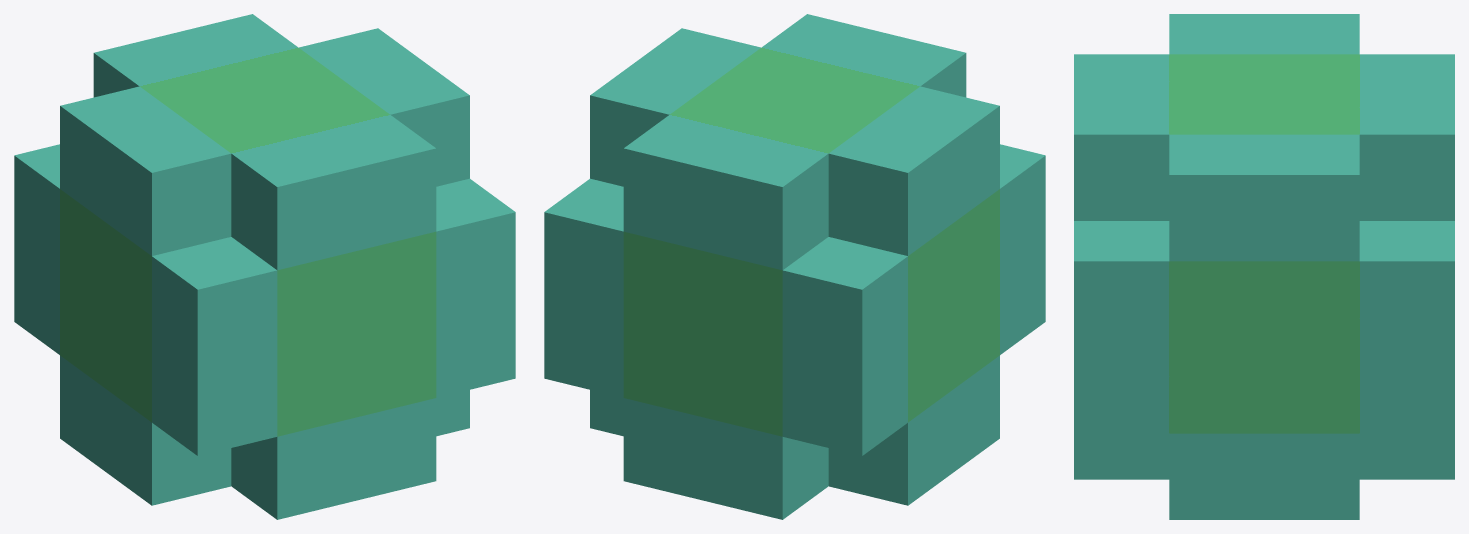
3 views of the same model, side by side, from view 1: azimuth 30°, elevation 25°; view 2: azimuth 150°, elevation 25°; view 3: azimuth 270°, elevation 25° (orthographic). The views are drawn at different scales.
Parts seen in each view (by area): view 1: XP_5; view 2: XP_5; view 3: XP_5.
Boxes of the visible parts, box(x1,y1,x2,y2) form: XP_5: box(14, 14, 515, 519); XP_5: box(544, 14, 1045, 519); XP_5: box(1074, 14, 1454, 519).
Bounding box in the file's own units: 4 × 4 × 4.
Materials: 1 (1 with a texture image).
